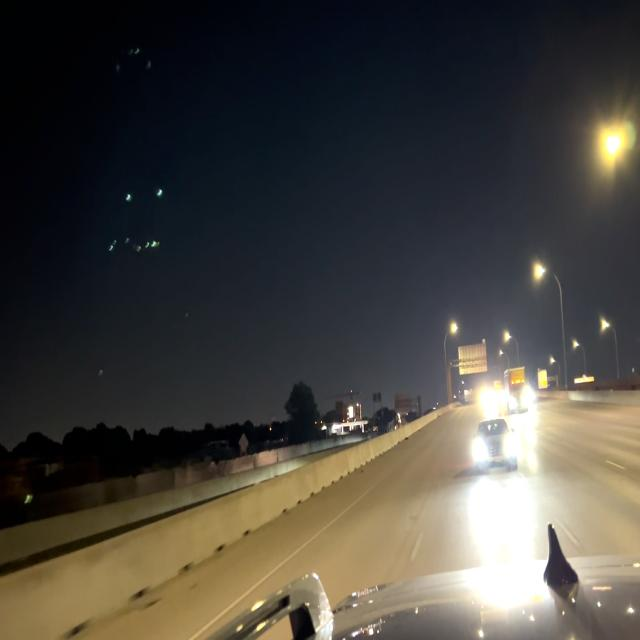back-of-sign: (457, 336, 489, 378)
